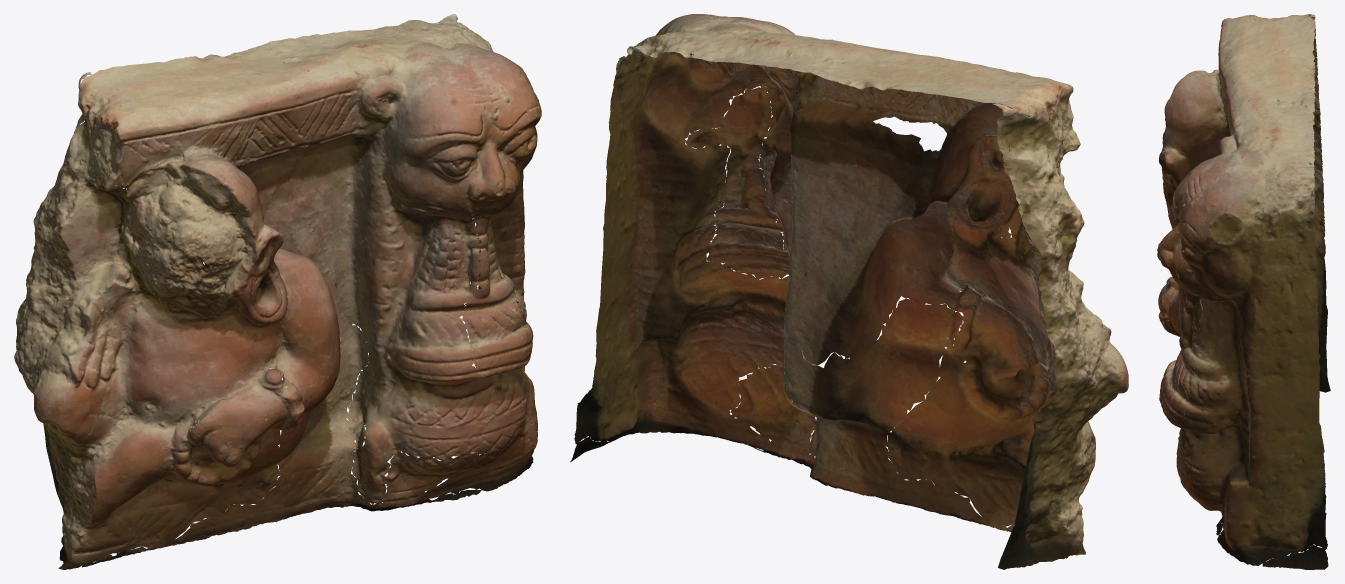
Rendered from sf-gupta-relief-fragment.glb.
3 renders of one model, left to right at view 1: azimuth 30°, elevation 25°; view 2: azimuth 150°, elevation 25°; view 3: azimuth 270°, elevation 25°, orthographic. The views are drawn at different scales.
Parts seen in each view (by area): view 1: material0, material1; view 2: material0, material1; view 3: material0, material1.
Boxes of the visible parts, x1=… form: material0: x1=14, y1=14, x2=541, y2=569; material1: x1=75, y1=72, x2=532, y2=567; material0: x1=574, y1=14, x2=1128, y2=569; material1: x1=570, y1=54, x2=1075, y2=531; material0: x1=1157, y1=14, x2=1330, y2=565; material1: x1=1158, y1=14, x2=1328, y2=569.
Bounding box in the file's own units: 0.2918 × 0.2499 × 0.1024.
Materials: 2 (2 with a texture image).
